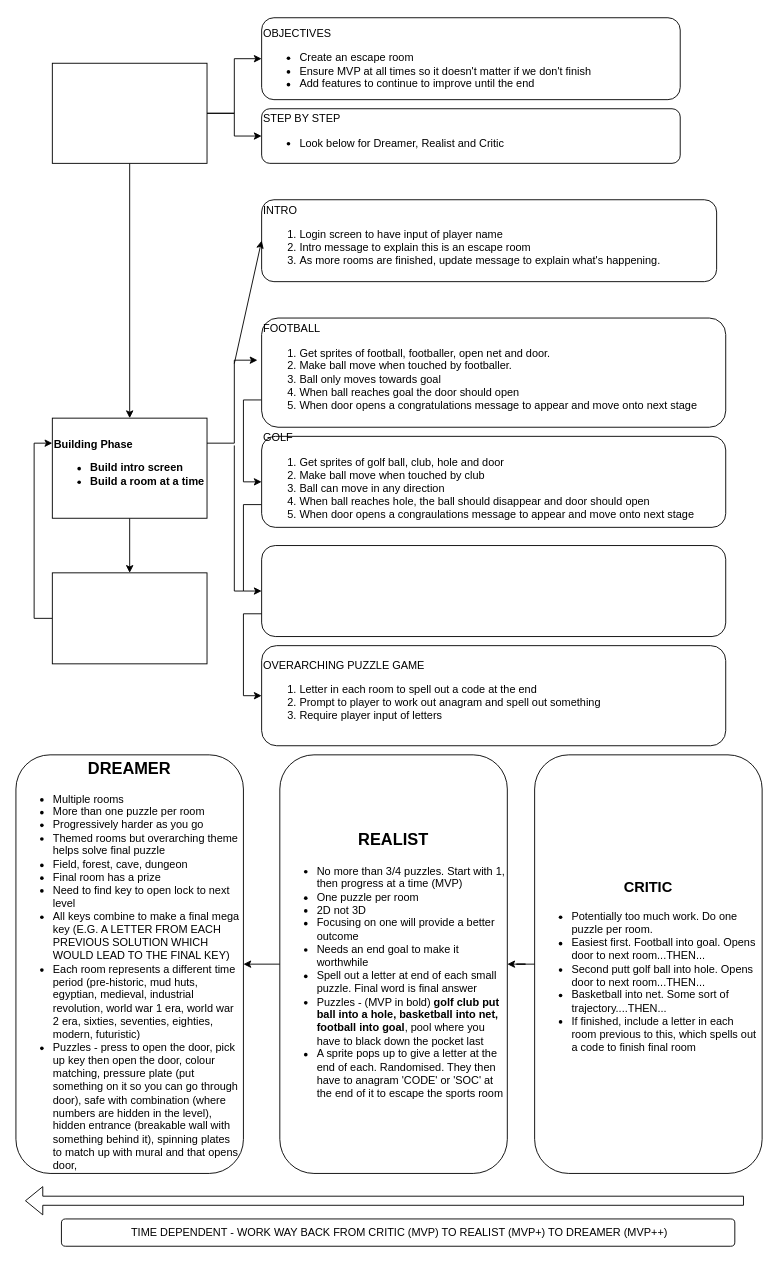
Image size: 778x1262. Some labels were removed from this diagram. The centre of each missing label's shape, as x and y in pixels:
BASKETBALL Use lessons from above to create basketball game in the same way.: the point at 493,591
Plan Phase Understand problem Break it down: the point at 129,112
Testing Phase Test each room: the point at 129,618
